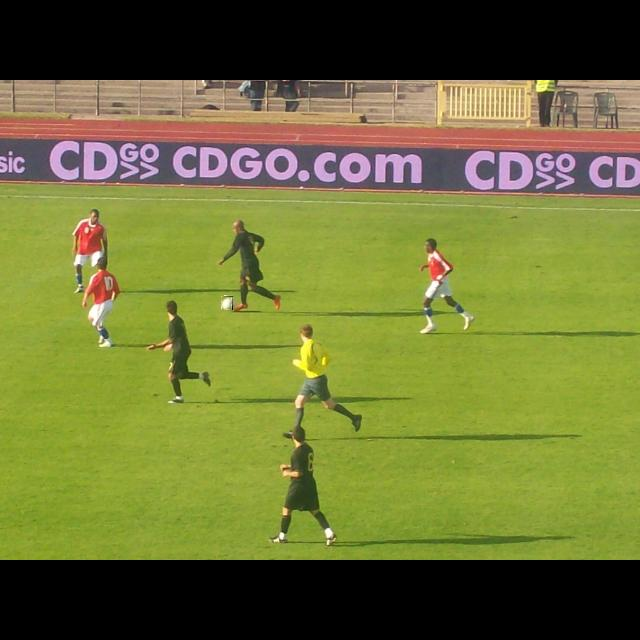Football: (221, 296, 233, 310)
